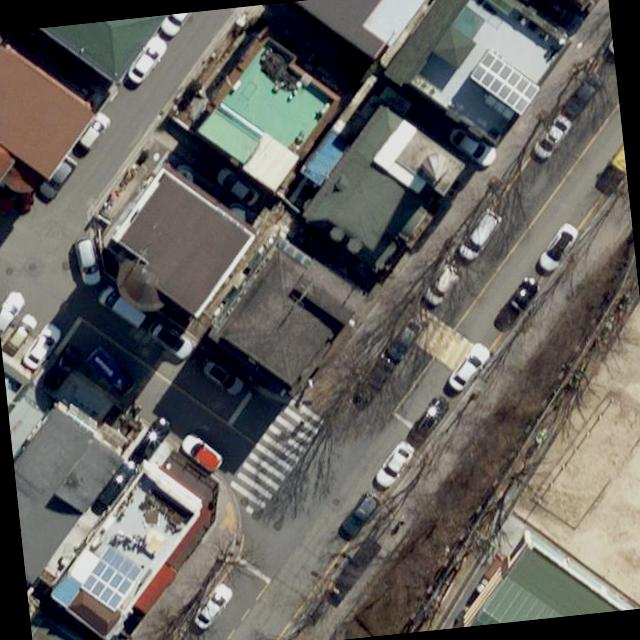solar: (464, 42, 546, 122), (72, 541, 150, 617)
